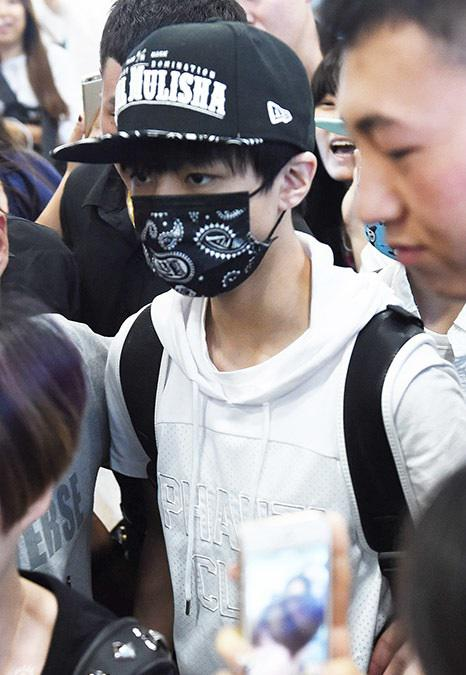NONE: (335, 93, 466, 296)
OK: (118, 153, 271, 306)
